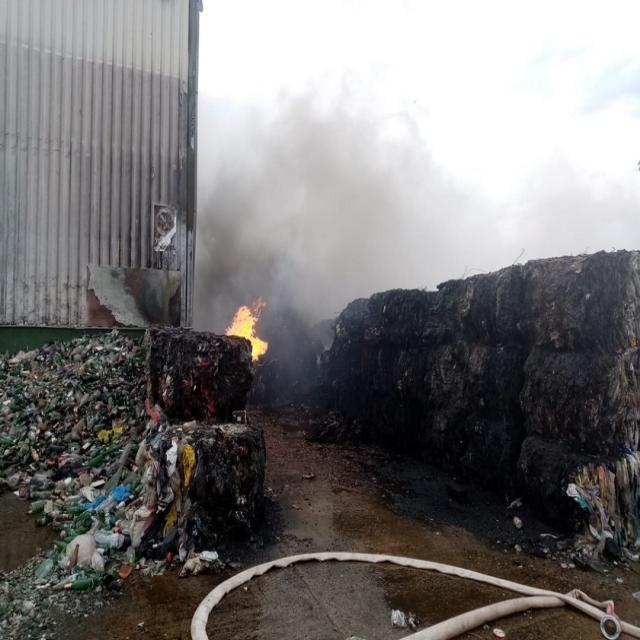Fire: (222, 298, 274, 366)
Smoke: (186, 90, 444, 347)
